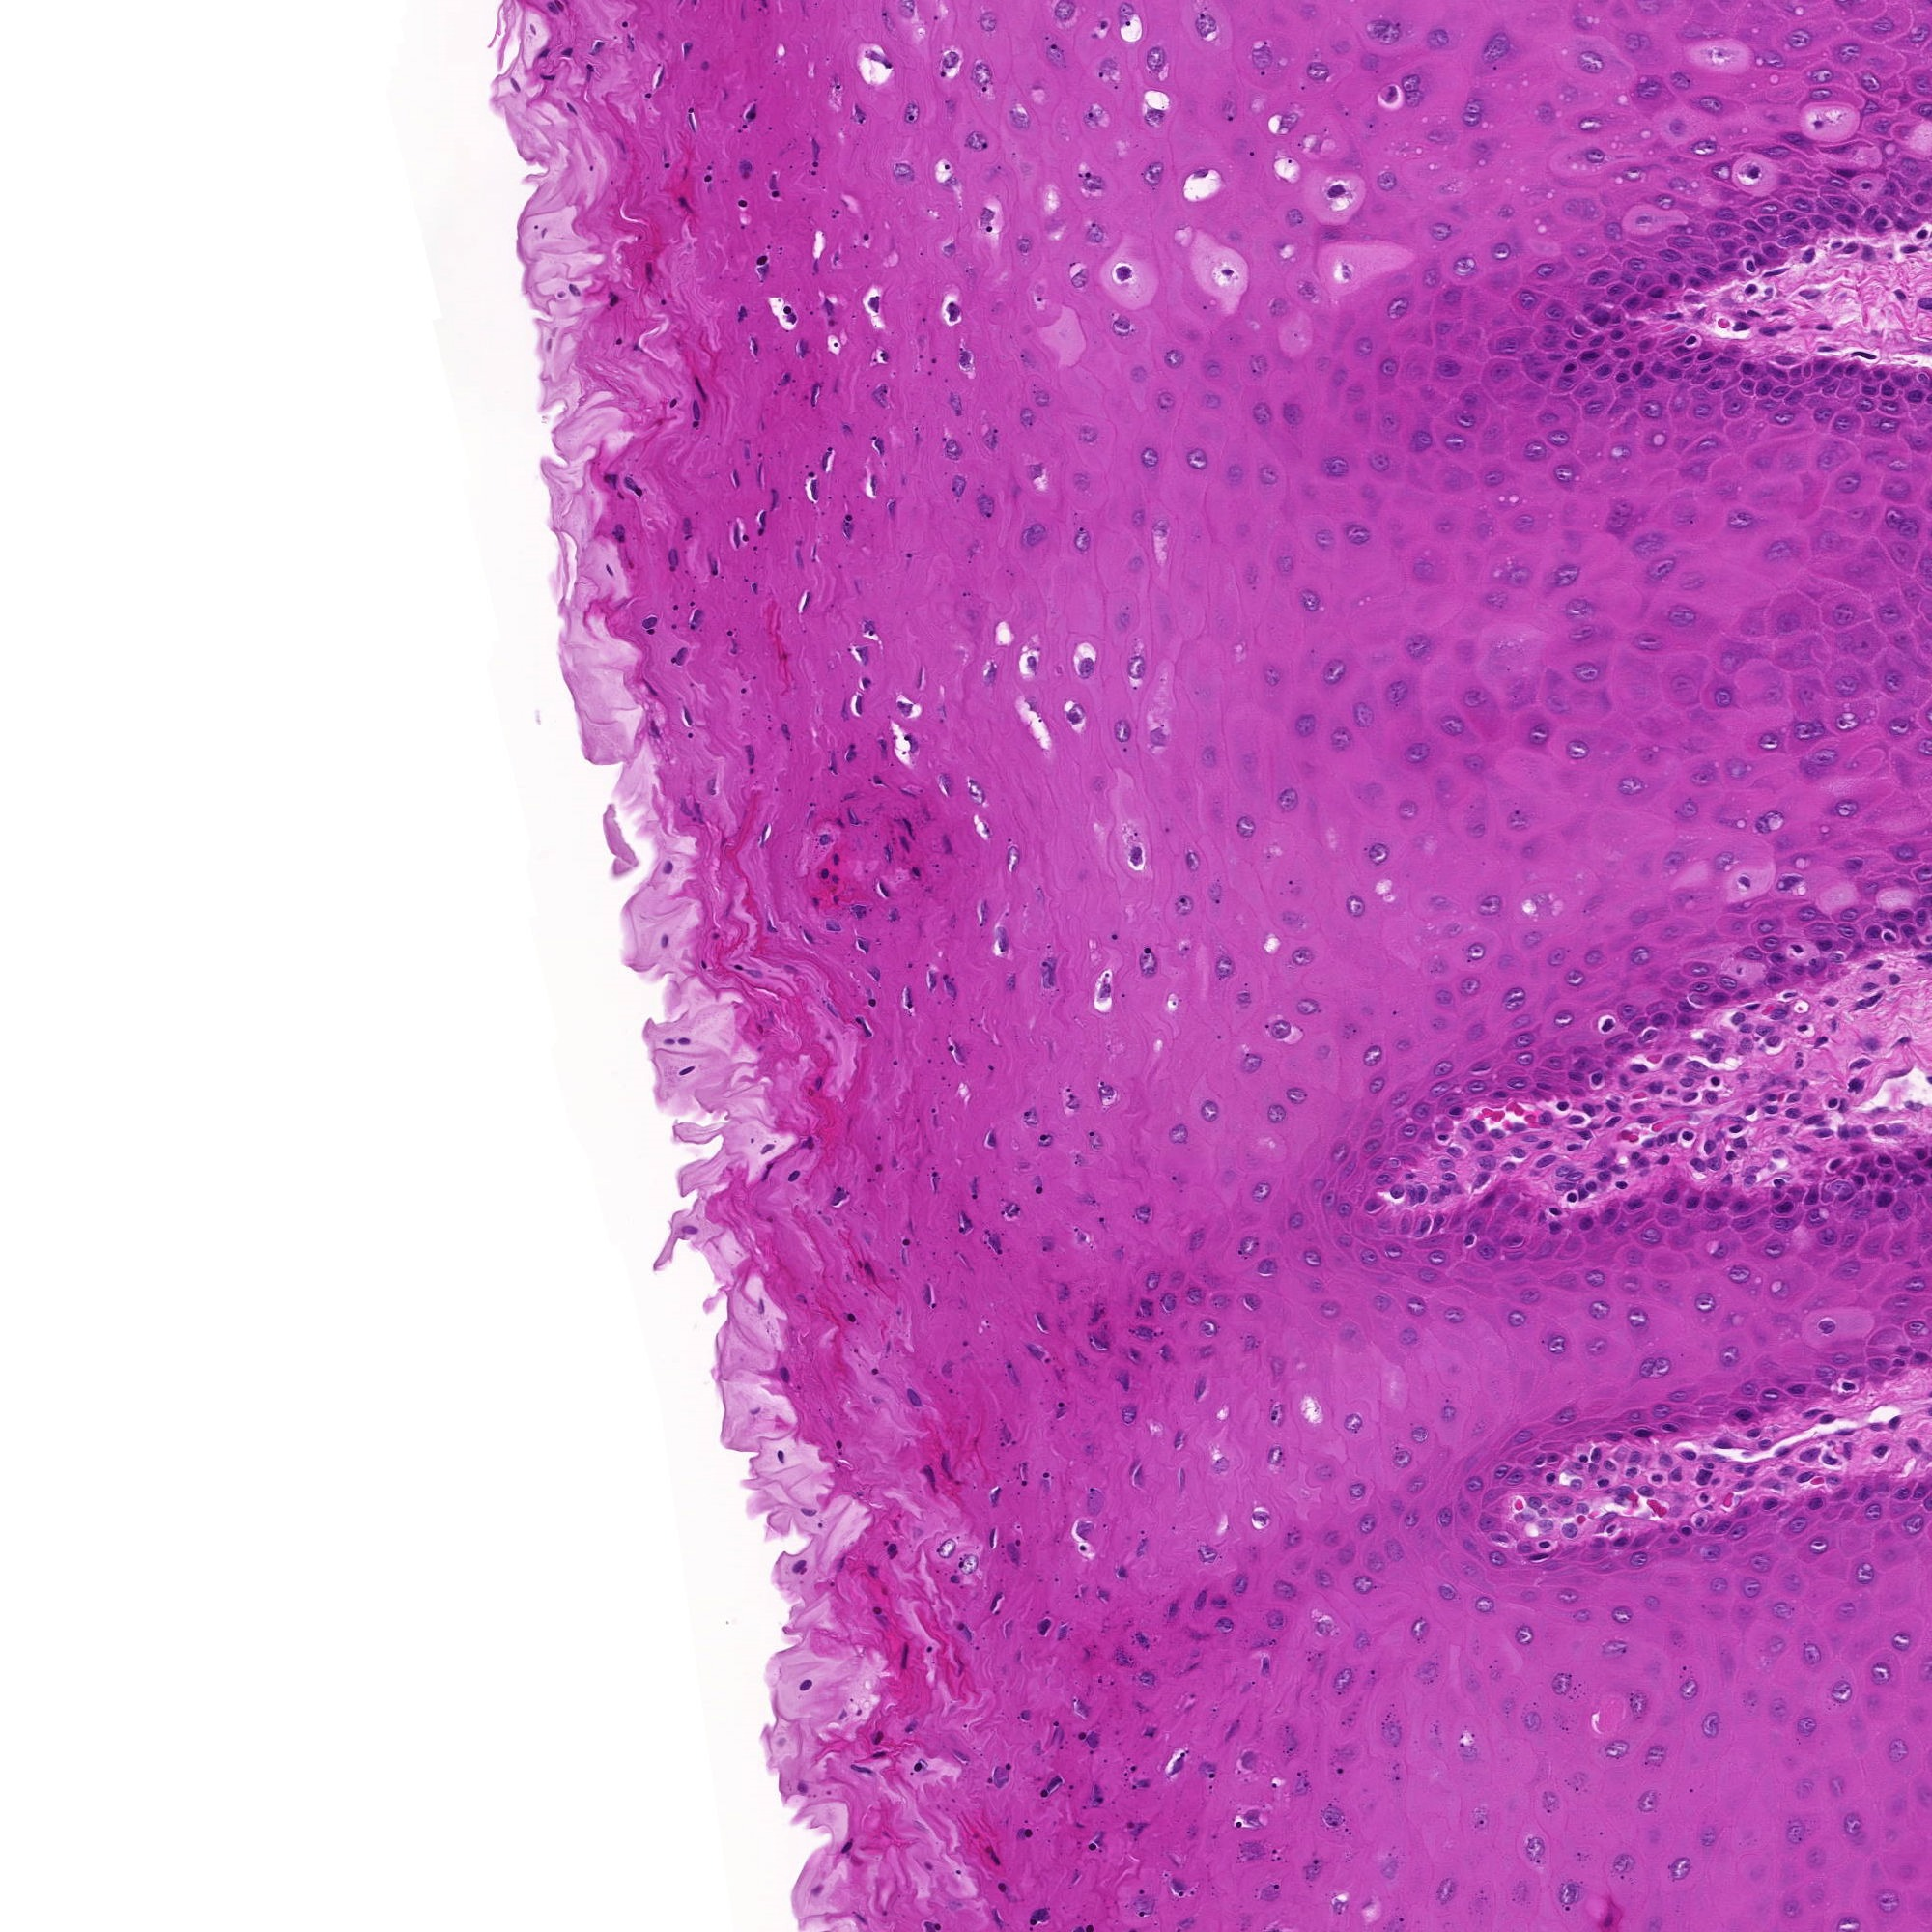epithelial: (1778, 221, 1810, 255), (1803, 195, 1836, 226), (1773, 387, 1805, 421), (1750, 387, 1782, 421), (1679, 334, 1713, 366), (1486, 347, 1518, 380), (1697, 1187, 1729, 1221), (1658, 993, 1691, 1024), (1522, 1444, 1555, 1476), (1702, 1527, 1734, 1560), (865, 375, 897, 407), (939, 389, 971, 421), (888, 826, 920, 858), (748, 817, 780, 849), (671, 510, 702, 541), (768, 639, 800, 671), (913, 874, 945, 906), (1384, 290, 1415, 322), (1279, 202, 1311, 234), (1247, 35, 1279, 67), (1021, 455, 1053, 487), (1189, 11, 1221, 42), (1122, 356, 1154, 387), (1384, 676, 1415, 708), (1295, 586, 1327, 617), (1173, 844, 1205, 876), (1226, 812, 1258, 844), (1338, 513, 1369, 545), (1131, 1290, 1162, 1322), (1178, 1276, 1210, 1307), (1279, 1203, 1311, 1235), (1154, 1286, 1185, 1318), (1138, 1261, 1169, 1293), (1235, 1327, 1267, 1359), (1115, 1398, 1146, 1430), (1235, 1284, 1267, 1316), (1161, 1261, 1192, 1293), (1031, 1230, 1063, 1261), (1334, 1014, 1366, 1046), (1403, 1415, 1435, 1447), (1056, 1085, 1088, 1116), (1315, 1184, 1346, 1215), (1419, 1233, 1451, 1265), (1339, 1408, 1371, 1440), (1122, 1286, 1154, 1318), (1132, 1269, 1164, 1300), (1072, 1637, 1104, 1668), (1276, 1522, 1307, 1553), (1276, 1729, 1307, 1760), (1106, 1642, 1138, 1674), (1192, 1537, 1224, 1569), (1399, 1468, 1431, 1500), (1157, 1592, 1189, 1624), (1067, 1514, 1099, 1546), (1378, 1534, 1410, 1566), (1067, 1691, 1099, 1723), (1376, 1713, 1408, 1744), (1306, 1612, 1338, 1644), (1346, 1568, 1378, 1599), (1552, 352, 1583, 384), (1615, 287, 1647, 318), (1872, 373, 1904, 405), (1686, 340, 1718, 372), (1564, 311, 1596, 343), (1583, 260, 1615, 292), (1856, 196, 1888, 228), (1734, 223, 1766, 255), (1836, 193, 1868, 225), (1875, 172, 1907, 203), (1886, 364, 1918, 396), (1826, 354, 1858, 386), (1688, 257, 1720, 288), (1539, 341, 1571, 373), (1787, 207, 1819, 239), (1548, 363, 1580, 395), (1539, 295, 1571, 327), (1619, 248, 1651, 280), (1530, 257, 1562, 288), (1615, 265, 1647, 297), (1679, 267, 1711, 299), (1454, 384, 1486, 416), (1511, 283, 1543, 315), (1895, 149, 1927, 180), (1695, 359, 1727, 391), (1631, 71, 1663, 103), (1667, 226, 1698, 258), (1514, 343, 1546, 375), (1874, 412, 1905, 444), (1888, 81, 1920, 113), (1576, 393, 1608, 425), (1683, 361, 1714, 393), (1900, 182, 1932, 214), (1865, 209, 1897, 241), (1518, 439, 1550, 471), (1782, 124, 1813, 156), (1612, 354, 1644, 386), (1580, 297, 1612, 329), (1589, 320, 1621, 352), (1748, 218, 1780, 249), (1621, 366, 1652, 398), (1826, 170, 1858, 202), (1757, 198, 1789, 230), (1516, 379, 1548, 410), (1550, 453, 1582, 485), (1714, 212, 1746, 244), (1663, 364, 1695, 396), (1681, 453, 1713, 485), (1824, 195, 1856, 226), (1852, 92, 1884, 124), (1723, 366, 1755, 398), (1523, 288, 1555, 320), (1706, 246, 1737, 278), (1644, 182, 1675, 214), (1709, 375, 1741, 407), (1612, 294, 1644, 326), (1695, 377, 1727, 409), (1580, 271, 1612, 303), (1635, 423, 1667, 455), (1844, 366, 1875, 398), (1548, 303, 1580, 334), (1548, 320, 1580, 352), (1539, 253, 1571, 285), (1504, 324, 1536, 356), (1587, 290, 1619, 322), (1545, 349, 1576, 380), (1661, 219, 1693, 251), (1546, 372, 1578, 403), (1792, 195, 1824, 226), (1612, 253, 1644, 285), (1713, 177, 1744, 209), (1856, 916, 1888, 948), (1891, 915, 1923, 947), (1736, 938, 1767, 970), (1881, 908, 1913, 939), (1792, 895, 1824, 927), (1458, 679, 1490, 711), (1633, 625, 1665, 656), (1750, 911, 1782, 943), (1826, 596, 1858, 628), (1601, 504, 1633, 536), (1874, 901, 1905, 932), (1651, 552, 1683, 584), (1895, 579, 1927, 610), (1520, 722, 1552, 754), (1472, 886, 1504, 918), (1624, 527, 1656, 559), (1886, 867, 1918, 899), (1750, 939, 1782, 971), (1500, 561, 1532, 593), (1461, 932, 1493, 964), (1805, 920, 1836, 952), (1654, 916, 1686, 948), (1858, 927, 1890, 959), (1819, 939, 1851, 971), (1828, 674, 1859, 706), (1736, 908, 1767, 939), (1721, 897, 1753, 929), (1888, 517, 1920, 548), (1474, 584, 1506, 616), (1603, 495, 1635, 527), (1842, 1164, 1874, 1196), (1886, 1152, 1918, 1184), (1769, 1191, 1801, 1223), (1867, 1169, 1898, 1201), (1851, 1152, 1882, 1184), (1670, 991, 1702, 1023), (1592, 1200, 1624, 1231), (1451, 1223, 1483, 1254), (1780, 1373, 1812, 1405), (1568, 1047, 1599, 1079), (1500, 1067, 1532, 1099), (1891, 1161, 1923, 1192), (1769, 1207, 1801, 1238), (1484, 1077, 1516, 1109), (1798, 1192, 1829, 1224), (1766, 1200, 1798, 1231), (1856, 1146, 1888, 1178), (1778, 1175, 1810, 1207), (1610, 1033, 1642, 1065), (1465, 1051, 1497, 1083), (1637, 1348, 1668, 1380), (1713, 1343, 1744, 1375), (1621, 1401, 1652, 1433), (1888, 1171, 1920, 1203), (1461, 1069, 1493, 1100), (1541, 1329, 1573, 1361), (1852, 1180, 1884, 1212), (1633, 1007, 1665, 1039), (1497, 984, 1529, 1016), (1898, 1309, 1930, 1341), (1776, 1185, 1808, 1217), (1720, 1198, 1752, 1230), (1559, 961, 1591, 993), (1884, 1338, 1916, 1369), (1562, 1035, 1594, 1067), (1707, 1187, 1739, 1219), (1739, 1201, 1771, 1233), (1440, 1203, 1472, 1235), (1842, 1178, 1874, 1210), (1661, 964, 1693, 996), (1824, 1345, 1856, 1376), (1897, 1269, 1928, 1300), (1748, 1196, 1780, 1228), (1665, 1184, 1697, 1215), (1741, 1378, 1773, 1410), (1674, 1200, 1706, 1231), (1897, 1175, 1928, 1207), (1479, 1226, 1511, 1258), (1552, 1056, 1583, 1088), (1736, 1214, 1767, 1246), (1467, 1191, 1499, 1223), (1688, 1180, 1720, 1212), (1847, 1477, 1879, 1509), (1500, 1458, 1532, 1490), (1886, 1477, 1918, 1509), (1727, 1509, 1759, 1541), (1780, 1815, 1812, 1847), (1865, 1654, 1897, 1686), (1762, 1693, 1794, 1725), (1824, 1479, 1856, 1511), (1599, 1734, 1631, 1766), (1736, 1683, 1767, 1714), (1474, 1479, 1506, 1511), (1534, 1787, 1566, 1819), (1821, 1769, 1852, 1801), (1760, 1626, 1792, 1658), (1246, 398, 1276, 432), (1852, 377, 1882, 410), (1767, 398, 1798, 432), (1610, 271, 1640, 304), (1858, 83, 1888, 117), (1890, 180, 1920, 214), (1867, 387, 1897, 421), (1826, 793, 1859, 823), (1835, 1348, 1865, 1382), (1658, 1536, 1691, 1566), (890, 156, 920, 188), (676, 99, 706, 131), (821, 67, 851, 99), (607, 131, 637, 163), (934, 166, 964, 198), (892, 810, 922, 842), (837, 801, 869, 832), (932, 768, 962, 800), (709, 826, 740, 858), (881, 807, 913, 837), (931, 1353, 962, 1384), (786, 1284, 817, 1315), (1371, 350, 1403, 380), (1408, 421, 1438, 453), (1364, 448, 1396, 478), (1274, 398, 1306, 428), (1316, 218, 1346, 249), (1138, 156, 1168, 188), (1196, 350, 1226, 382), (977, 423, 1007, 455), (1132, 444, 1162, 476), (1355, 48, 1387, 78), (1261, 290, 1292, 322), (1293, 274, 1323, 306), (1366, 14, 1398, 44), (1373, 165, 1403, 196), (1106, 310, 1138, 340), (1403, 426, 1433, 458), (1180, 444, 1212, 474), (1373, 405, 1405, 435), (1304, 55, 1334, 87), (1157, 341, 1187, 373), (1219, 456, 1249, 488), (1026, 382, 1056, 414), (1339, 377, 1371, 407), (1148, 387, 1180, 418), (1421, 18, 1451, 50), (1141, 44, 1171, 76), (1398, 64, 1428, 96), (1412, 379, 1442, 410), (1253, 460, 1283, 492), (1214, 99, 1246, 129), (1401, 352, 1431, 384), (1290, 708, 1320, 740), (1016, 518, 1046, 550), (1359, 835, 1391, 865), (1194, 738, 1224, 770), (1141, 722, 1173, 752), (1123, 501, 1154, 533), (1067, 518, 1097, 550), (1307, 522, 1338, 554), (1345, 695, 1375, 727), (1201, 881, 1231, 913), (996, 842, 1026, 874), (1120, 547, 1152, 577), (1407, 1095, 1438, 1125), (1086, 1327, 1118, 1357), (1083, 1297, 1113, 1329), (1408, 1210, 1438, 1242), (1182, 1221, 1212, 1253), (1129, 1316, 1161, 1346), (1378, 1233, 1410, 1263), (1353, 1242, 1384, 1274), (1355, 1191, 1387, 1221), (1265, 1014, 1295, 1046), (1361, 1069, 1392, 1099), (1237, 1046, 1269, 1076), (1109, 1366, 1139, 1398), (1191, 1336, 1221, 1368), (1246, 1175, 1276, 1207), (1026, 1304, 1056, 1336), (1150, 1338, 1180, 1369), (1368, 1162, 1398, 1194), (1412, 1118, 1442, 1150), (1392, 1320, 1424, 1350), (1384, 1083, 1415, 1113), (1205, 1286, 1237, 1316), (1164, 1116, 1196, 1146), (1412, 1258, 1442, 1290), (1230, 982, 1260, 1014), (1065, 1343, 1097, 1373), (1184, 1373, 1214, 1405), (1226, 1233, 1258, 1263), (1410, 1224, 1442, 1254), (1389, 1143, 1421, 1173), (1104, 1237, 1134, 1269), (1261, 1352, 1293, 1382), (1295, 991, 1325, 1023), (1389, 1212, 1421, 1242), (1044, 1359, 1076, 1389), (1079, 1322, 1109, 1353), (1074, 1184, 1104, 1215), (1125, 1299, 1155, 1330), (1132, 1661, 1162, 1693), (1352, 1506, 1382, 1537), (1261, 1605, 1293, 1635), (1272, 1575, 1304, 1605), (1237, 1835, 1269, 1865), (1330, 1539, 1361, 1571), (1299, 1851, 1330, 1881), (1403, 1612, 1435, 1642), (1316, 1803, 1348, 1833), (1194, 1755, 1226, 1785), (1346, 1624, 1378, 1654), (1127, 1893, 1159, 1923), (1256, 1875, 1286, 1907), (1122, 1458, 1154, 1488), (1343, 1474, 1375, 1504), (1127, 1530, 1157, 1562), (1414, 1654, 1445, 1684), (1327, 1667, 1359, 1697), (1077, 1479, 1108, 1511), (1322, 1891, 1353, 1921), (1376, 1851, 1407, 1882), (1127, 1882, 1159, 1913), (993, 1612, 1023, 1644), (1274, 1720, 1306, 1750), (1168, 1463, 1198, 1495), (1203, 1449, 1235, 1479), (1585, 304, 1615, 336), (1622, 352, 1652, 384), (1573, 340, 1605, 370), (1750, 372, 1780, 403), (1898, 380, 1928, 412), (1606, 361, 1637, 393), (1805, 205, 1835, 237), (1821, 188, 1852, 218), (1601, 318, 1633, 349), (1732, 370, 1762, 402), (1580, 324, 1610, 356), (1831, 203, 1861, 235), (1594, 301, 1624, 333), (1773, 202, 1805, 232), (1847, 391, 1877, 423), (1601, 274, 1631, 306), (1808, 366, 1840, 396), (1714, 232, 1744, 264), (1665, 334, 1697, 364), (1778, 382, 1810, 412), (1744, 244, 1775, 276), (1654, 239, 1684, 271), (1764, 375, 1794, 407), (1736, 211, 1767, 241), (1762, 359, 1794, 389), (1688, 354, 1720, 384), (1877, 389, 1907, 421), (1789, 188, 1819, 219), (1493, 329, 1525, 359), (1812, 191, 1844, 221), (1536, 327, 1566, 359), (1633, 352, 1665, 382), (1829, 405, 1859, 437), (1782, 364, 1812, 396), (1484, 356, 1514, 387), (1856, 370, 1888, 400), (1534, 402, 1564, 433), (1612, 377, 1642, 409), (1711, 354, 1741, 386), (1571, 375, 1603, 405), (1543, 421, 1575, 451), (1697, 343, 1729, 373), (1893, 196, 1925, 226), (1842, 356, 1874, 386), (1721, 389, 1752, 421), (1729, 237, 1760, 267), (1867, 111, 1898, 142), (1865, 407, 1895, 439), (1437, 352, 1468, 382), (1757, 379, 1787, 410), (1601, 393, 1631, 425), (1674, 359, 1706, 389), (1746, 446, 1776, 478), (1690, 366, 1721, 396), (1898, 425, 1928, 456), (1713, 221, 1743, 253), (1665, 62, 1697, 92), (1665, 349, 1695, 380), (1893, 372, 1923, 403), (1541, 357, 1573, 387), (1596, 287, 1626, 318), (1486, 232, 1516, 264), (1458, 99, 1490, 129), (1633, 384, 1663, 416), (1619, 308, 1649, 340), (1835, 34, 1867, 64), (1683, 241, 1714, 271), (1686, 395, 1716, 426), (1863, 437, 1893, 469), (1610, 313, 1640, 345), (1583, 341, 1614, 373), (1628, 290, 1660, 320), (1773, 363, 1803, 395), (1573, 363, 1603, 395), (1477, 464, 1509, 494), (1622, 27, 1654, 57), (1741, 356, 1771, 387), (1776, 191, 1806, 223), (1769, 165, 1801, 195), (1764, 211, 1796, 241), (1550, 333, 1580, 364), (1766, 228, 1798, 258), (1805, 80, 1836, 110), (1661, 235, 1693, 265), (1718, 350, 1750, 380), (1789, 218, 1819, 249), (1835, 363, 1867, 393), (1727, 228, 1759, 258), (1594, 267, 1626, 297), (1796, 211, 1828, 241), (1695, 428, 1727, 458), (1651, 269, 1681, 301), (1794, 352, 1824, 384), (1578, 281, 1608, 313), (1882, 202, 1913, 234), (1536, 304, 1568, 334), (1532, 352, 1562, 384), (1757, 44, 1789, 74), (1821, 175, 1851, 207), (1870, 203, 1902, 234), (1605, 288, 1635, 320), (1798, 373, 1829, 403), (1557, 308, 1587, 340), (1693, 244, 1723, 276), (1842, 202, 1872, 234), (1824, 373, 1856, 403), (1654, 329, 1686, 359), (1790, 23, 1821, 55), (1626, 359, 1658, 389), (1674, 262, 1706, 292), (1573, 306, 1603, 338), (1829, 39, 1859, 71), (1488, 32, 1520, 62), (1612, 244, 1644, 274), (1477, 418, 1507, 449), (1557, 373, 1589, 403), (1812, 60, 1844, 90), (1783, 375, 1815, 405), (1769, 219, 1801, 249), (1667, 426, 1697, 458), (1578, 384, 1610, 414), (1884, 165, 1914, 196), (1605, 384, 1637, 414), (1578, 370, 1608, 402), (1805, 384, 1835, 416), (1852, 211, 1884, 241), (1810, 929, 1840, 961), (1886, 899, 1916, 931), (1874, 920, 1905, 950), (1890, 837, 1920, 869), (1840, 931, 1872, 961), (1798, 713, 1829, 743), (1877, 662, 1909, 692), (1771, 607, 1803, 637), (1874, 594, 1904, 626), (1884, 708, 1916, 738), (1707, 678, 1739, 708), (1757, 722, 1787, 754), (1886, 625, 1916, 656), (1458, 748, 1488, 780), (1562, 729, 1594, 759), (1727, 504, 1759, 534), (1792, 754, 1824, 784), (1569, 619, 1601, 649), (1660, 842, 1690, 874), (1622, 939, 1654, 970), (1509, 508, 1539, 540), (1665, 603, 1697, 633), (1674, 791, 1704, 823), (1799, 941, 1829, 973), (1808, 747, 1840, 777), (1442, 708, 1472, 740), (1842, 916, 1874, 947), (1824, 706, 1856, 736), (1665, 667, 1697, 697), (1868, 913, 1898, 945), (1858, 538, 1888, 570), (1633, 740, 1663, 771), (1502, 800, 1532, 832), (1578, 939, 1610, 970), (1886, 538, 1918, 568), (1844, 556, 1874, 587), (1835, 667, 1865, 699), (1568, 591, 1599, 621), (1782, 709, 1812, 741), (1789, 678, 1821, 708), (1467, 513, 1499, 543), (1845, 628, 1877, 658), (1767, 828, 1799, 858), (1849, 501, 1881, 531), (1902, 901, 1932, 932), (1836, 789, 1867, 821), (1543, 564, 1573, 596), (1877, 713, 1909, 743), (1771, 642, 1803, 672), (1637, 524, 1667, 556), (1844, 665, 1875, 695), (1723, 752, 1753, 784), (1792, 718, 1822, 750), (1610, 773, 1642, 803), (1805, 908, 1835, 939), (1888, 855, 1918, 886), (1812, 524, 1842, 556), (1796, 671, 1826, 702), (1667, 798, 1698, 828), (1672, 881, 1702, 913), (1790, 709, 1822, 740), (1868, 1184, 1898, 1215), (1872, 1162, 1904, 1192), (1888, 1194, 1918, 1226), (1559, 1062, 1591, 1092), (1725, 1191, 1757, 1221), (1677, 1185, 1707, 1217), (1856, 1159, 1888, 1189), (1656, 1180, 1686, 1212), (1730, 1207, 1760, 1238), (1571, 1207, 1601, 1238), (1829, 1180, 1861, 1210), (1684, 971, 1714, 1003), (1497, 1224, 1529, 1254), (1702, 984, 1734, 1014), (1821, 1150, 1852, 1180), (1461, 1210, 1493, 1240), (1668, 1003, 1700, 1033), (1759, 1231, 1789, 1263), (1550, 1399, 1580, 1431), (1652, 1201, 1684, 1231), (1759, 962, 1789, 994), (1582, 1063, 1612, 1095), (1472, 1184, 1504, 1214), (1539, 1046, 1569, 1077), (1635, 1224, 1667, 1254), (1836, 1251, 1867, 1283), (1697, 1200, 1727, 1231), (1624, 1203, 1656, 1233), (1755, 1378, 1787, 1408), (1847, 1194, 1877, 1226), (1633, 1021, 1665, 1051), (1599, 1421, 1629, 1453), (1619, 1001, 1649, 1033), (1840, 1357, 1870, 1389), (1836, 1171, 1867, 1203), (1856, 1233, 1888, 1263), (1750, 1389, 1782, 1419), (1836, 1184, 1867, 1215), (1706, 1235, 1737, 1265), (1594, 1026, 1626, 1056), (1460, 1016, 1490, 1047), (1529, 1069, 1559, 1100), (1651, 1403, 1683, 1433), (1557, 1230, 1587, 1261), (1881, 1185, 1911, 1217), (1507, 1196, 1539, 1226), (1826, 1155, 1858, 1185), (1493, 1185, 1525, 1215), (1548, 1000, 1580, 1030), (1514, 1279, 1545, 1311), (1810, 1361, 1840, 1392), (1500, 1240, 1530, 1272), (1552, 1265, 1582, 1297), (1808, 1180, 1838, 1212), (1582, 1203, 1614, 1233), (1898, 1253, 1928, 1284), (1661, 1380, 1693, 1410), (1707, 978, 1739, 1008), (1780, 1194, 1810, 1226), (1882, 1286, 1914, 1316), (1594, 1046, 1624, 1077), (1522, 1077, 1553, 1108), (1612, 1019, 1642, 1051), (1507, 1421, 1539, 1451), (1631, 1353, 1661, 1385), (1440, 1299, 1470, 1330), (1895, 1148, 1927, 1178), (1882, 1346, 1913, 1378), (1881, 1168, 1911, 1200), (1867, 1196, 1897, 1228), (1622, 1307, 1652, 1339), (1511, 1044, 1543, 1074), (1619, 1256, 1649, 1288), (1615, 1267, 1647, 1297), (1663, 1224, 1695, 1254), (1760, 1208, 1790, 1240), (1596, 1208, 1628, 1238), (1483, 1210, 1513, 1242), (1599, 1194, 1631, 1224), (1656, 1003, 1686, 1035), (1665, 1405, 1695, 1437), (1621, 1297, 1651, 1329), (1626, 1408, 1656, 1440), (1576, 1215, 1608, 1246), (1693, 1208, 1723, 1240), (1858, 1191, 1888, 1223), (1897, 1320, 1927, 1352), (1665, 980, 1697, 1010), (1859, 1336, 1890, 1368), (1677, 985, 1709, 1016), (1465, 1226, 1495, 1258), (1766, 1364, 1798, 1394), (1767, 1274, 1799, 1304), (1619, 1217, 1651, 1247), (1447, 1208, 1479, 1238), (1790, 1171, 1821, 1203), (1790, 1201, 1821, 1233), (1890, 1279, 1920, 1311), (1821, 1171, 1852, 1201), (1693, 975, 1725, 1005), (1566, 1265, 1598, 1295), (1580, 1279, 1610, 1311), (1578, 1054, 1610, 1085), (1527, 1062, 1557, 1093), (1707, 1509, 1737, 1541), (1782, 1507, 1812, 1539), (1606, 1845, 1637, 1877), (1805, 1527, 1835, 1559), (1640, 1736, 1670, 1767), (1859, 1493, 1890, 1525), (1718, 1514, 1750, 1545), (1626, 1537, 1656, 1569), (1835, 1479, 1867, 1509), (1454, 1529, 1484, 1560), (1693, 1822, 1723, 1854), (1619, 1686, 1651, 1716), (1824, 1675, 1856, 1706), (1836, 1812, 1867, 1844), (1737, 1573, 1769, 1603), (1582, 1530, 1612, 1562), (1898, 1506, 1928, 1537), (1746, 1546, 1776, 1578), (1897, 1476, 1928, 1506), (1776, 1568, 1808, 1598), (1518, 1833, 1550, 1863), (1858, 1474, 1888, 1506), (1631, 1785, 1663, 1815), (1663, 1851, 1695, 1881), (1545, 1667, 1576, 1697), (1799, 1842, 1829, 1874), (1516, 1706, 1548, 1736), (1605, 1633, 1635, 1665), (1530, 1541, 1560, 1573), (1713, 1645, 1743, 1677), (1583, 1543, 1615, 1573), (1468, 1591, 1500, 1621), (1592, 1550, 1622, 1582), (1672, 1672, 1704, 1702), (1718, 1504, 1750, 1534), (1890, 1493, 1920, 1525), (1789, 1771, 1821, 1801), (939, 435, 970, 465), (771, 363, 801, 393), (938, 44, 968, 74), (936, 90, 966, 120), (743, 456, 773, 487), (844, 895, 874, 925), (932, 828, 962, 858), (874, 837, 904, 867), (911, 798, 941, 828), (658, 543, 688, 573), (835, 782, 865, 812), (695, 771, 725, 801), (938, 906, 968, 936), (796, 800, 826, 830), (939, 1033, 970, 1063), (920, 1100, 950, 1131), (747, 1012, 777, 1042), (816, 993, 846, 1023), (943, 1647, 973, 1677), (1008, 230, 1039, 260), (1316, 451, 1346, 481), (1350, 329, 1380, 359), (1012, 403, 1042, 433), (1346, 402, 1376, 432), (1417, 260, 1447, 290), (1269, 108, 1299, 138), (1079, 218, 1109, 248), (1323, 361, 1353, 391), (1244, 350, 1274, 380), (1010, 341, 1040, 372), (1074, 419, 1104, 449), (1005, 104, 1035, 134), (1065, 262, 1095, 292), (1196, 384, 1226, 414), (1378, 12, 1408, 42), (1401, 738, 1431, 768), (1272, 782, 1302, 812), (1072, 651, 1102, 681), (1407, 554, 1437, 584), (1318, 656, 1348, 686), (1108, 603, 1138, 633), (1325, 724, 1355, 754), (1341, 892, 1371, 922), (1269, 548, 1299, 579), (977, 656, 1007, 686), (1343, 522, 1373, 552), (1286, 939, 1316, 970), (1109, 718, 1139, 748), (1392, 791, 1422, 821), (970, 897, 1000, 927), (1357, 775, 1387, 805), (1357, 1131, 1387, 1161), (1253, 1249, 1283, 1279), (1329, 1194, 1359, 1224), (1120, 1339, 1150, 1369), (1049, 1277, 1079, 1307), (1394, 1115, 1424, 1145), (1299, 1240, 1329, 1270), (1410, 1109, 1440, 1139), (1361, 1148, 1391, 1178), (1368, 1286, 1398, 1316), (1329, 1226, 1359, 1256), (1194, 1313, 1224, 1343), (1092, 1076, 1122, 1106), (1325, 1138, 1355, 1168), (991, 1419, 1021, 1449), (1304, 1169, 1334, 1200), (1277, 1079, 1307, 1109), (1129, 1194, 1159, 1224), (1401, 1288, 1431, 1318), (1361, 1109, 1391, 1139), (1389, 1028, 1419, 1058), (1334, 1318, 1364, 1348), (1263, 1095, 1293, 1125), (1315, 1293, 1345, 1323), (1162, 1164, 1192, 1194), (1332, 1152, 1362, 1182), (1417, 1246, 1447, 1276), (1155, 1276, 1185, 1306), (1226, 1569, 1256, 1599), (1306, 1562, 1336, 1592), (1398, 1502, 1428, 1532), (1233, 1744, 1263, 1775), (1316, 1522, 1346, 1552), (998, 1537, 1028, 1568), (1359, 1546, 1389, 1576), (1288, 1767, 1318, 1798), (1385, 1442, 1415, 1472), (1177, 1817, 1207, 1847), (1072, 1902, 1102, 1932), (1060, 1861, 1090, 1891), (1249, 1626, 1279, 1656), (1700, 368, 1730, 398), (1589, 356, 1619, 386), (1557, 329, 1587, 359), (1709, 345, 1739, 375), (1647, 354, 1677, 384), (1631, 366, 1661, 396), (1644, 278, 1674, 308), (1658, 357, 1688, 387), (1527, 361, 1557, 391), (1672, 345, 1702, 375), (1629, 329, 1660, 359), (1755, 235, 1785, 265), (1706, 214, 1736, 244), (1598, 359, 1628, 389), (1573, 292, 1603, 322), (1752, 209, 1782, 239), (1709, 198, 1739, 228), (1615, 334, 1645, 364), (1806, 398, 1836, 428), (1753, 361, 1783, 391), (1635, 396, 1665, 426), (1875, 195, 1905, 225), (1453, 403, 1483, 433), (1536, 315, 1566, 345), (1785, 356, 1815, 386), (1813, 373, 1844, 403), (1716, 384, 1746, 414), (1573, 320, 1603, 350), (1868, 11, 1898, 41), (1438, 281, 1468, 311), (1467, 133, 1497, 163), (1580, 140, 1610, 170), (1698, 88, 1729, 119), (1481, 28, 1511, 58), (1594, 350, 1624, 380), (1560, 322, 1591, 352), (1530, 97, 1560, 127), (1442, 430, 1472, 460), (1668, 214, 1698, 244), (1852, 69, 1882, 99), (1564, 350, 1594, 380), (1483, 267, 1513, 297), (1757, 134, 1787, 165), (1598, 327, 1628, 357), (1890, 172, 1920, 202), (1663, 393, 1693, 423), (1780, 25, 1810, 55), (1520, 354, 1550, 384), (1661, 111, 1691, 142), (1815, 166, 1845, 196), (1566, 237, 1596, 267), (1546, 460, 1576, 490), (1640, 267, 1670, 297), (1447, 246, 1477, 276), (1812, 444, 1842, 474), (1684, 380, 1714, 410), (1617, 154, 1647, 184), (1486, 331, 1516, 361), (1610, 435, 1640, 465), (1658, 253, 1688, 283), (1642, 391, 1672, 421), (1736, 202, 1766, 232), (1734, 380, 1764, 410), (1886, 508, 1916, 538), (1831, 916, 1861, 947), (1835, 899, 1865, 929), (1840, 849, 1870, 879), (1759, 931, 1789, 961), (1550, 561, 1580, 591), (1691, 759, 1721, 789), (1762, 941, 1792, 971), (1897, 508, 1927, 538), (1525, 713, 1555, 743), (1858, 870, 1888, 901), (1674, 502, 1704, 533), (1877, 506, 1907, 536), (1718, 639, 1748, 669), (1514, 833, 1545, 863), (1463, 812, 1493, 842), (1575, 653, 1605, 683), (1624, 904, 1654, 934), (1589, 685, 1619, 715), (1539, 665, 1569, 695), (1773, 939, 1803, 970), (1644, 559, 1674, 589), (1826, 931, 1856, 961), (1886, 752, 1916, 782), (1766, 533, 1796, 563), (1833, 628, 1863, 658), (1796, 906, 1826, 936), (1900, 1162, 1930, 1192), (1645, 1005, 1675, 1035), (1813, 1224, 1844, 1254), (1621, 1189, 1651, 1219), (1624, 1010, 1654, 1040), (1472, 1235, 1502, 1265), (1863, 1348, 1893, 1378), (1511, 1023, 1541, 1053), (1702, 1207, 1732, 1237), (1654, 1412, 1684, 1442), (1605, 1214, 1635, 1244), (1801, 1203, 1831, 1233), (1884, 1231, 1914, 1261), (1760, 1194, 1790, 1224), (1647, 1394, 1677, 1424), (1612, 996, 1642, 1026), (1734, 1376, 1764, 1407), (1690, 1286, 1720, 1316), (1835, 1224, 1865, 1254), (1578, 1261, 1608, 1292), (1902, 1139, 1932, 1169), (1499, 1304, 1529, 1334), (1642, 996, 1672, 1026), (1619, 1242, 1649, 1272), (1723, 1256, 1753, 1286), (1453, 970, 1483, 1000), (1709, 968, 1739, 998), (1691, 984, 1721, 1014), (1674, 1215, 1704, 1246), (1844, 1146, 1874, 1177), (1647, 1272, 1677, 1302), (1530, 1235, 1560, 1265), (1582, 1295, 1612, 1325), (1582, 1330, 1612, 1361), (1881, 1148, 1911, 1178), (1619, 1026, 1649, 1056), (1734, 1387, 1764, 1417), (1764, 1304, 1794, 1334), (1829, 1256, 1859, 1286), (1720, 1184, 1750, 1214), (1698, 1537, 1729, 1568), (1486, 1456, 1516, 1486), (1729, 1497, 1759, 1527), (1624, 1527, 1654, 1557), (1801, 1488, 1831, 1518), (1458, 1468, 1488, 1499), (1697, 1709, 1727, 1739), (1449, 1493, 1479, 1523), (1557, 1875, 1587, 1905), (1851, 1559, 1881, 1589), (1507, 1619, 1537, 1649), (1875, 1539, 1905, 1569), (1661, 1621, 1691, 1651), (1831, 1594, 1861, 1624), (1637, 1587, 1667, 1617), (1658, 1525, 1688, 1555), (1881, 1734, 1911, 1764), (1870, 1886, 1900, 1916), (1621, 1545, 1651, 1575), (1886, 1626, 1916, 1656), (1605, 1598, 1635, 1628), (1794, 1640, 1824, 1670), (1868, 1472, 1898, 1502), (1801, 1536, 1831, 1566), (1553, 1580, 1583, 1610), (1704, 1569, 1734, 1599), (1594, 1900, 1624, 1930), (1729, 1599, 1759, 1629), (1831, 1497, 1861, 1527), (789, 333, 817, 364), (893, 777, 922, 809), (893, 793, 922, 824), (1403, 632, 1435, 660), (1258, 663, 1290, 692), (1660, 264, 1691, 292), (1734, 352, 1762, 384), (1806, 356, 1835, 387), (1713, 253, 1744, 281), (1629, 267, 1658, 299), (1852, 359, 1884, 387), (1819, 359, 1851, 387), (1891, 156, 1920, 188), (1838, 464, 1870, 492), (1881, 188, 1909, 219), (1447, 327, 1479, 356), (1746, 810, 1778, 839), (1723, 908, 1752, 939), (1798, 1180, 1826, 1212), (1870, 1143, 1898, 1175), (1766, 1178, 1794, 1210), (1890, 1182, 1918, 1214), (1836, 1157, 1865, 1189), (1629, 1219, 1658, 1251), (1483, 1541, 1511, 1573), (1790, 1713, 1822, 1741), (1764, 1592, 1792, 1624), (1398, 74, 1426, 104), (1123, 653, 1154, 681), (1382, 1493, 1412, 1522), (1304, 1644, 1332, 1674), (1608, 336, 1637, 366), (1776, 212, 1805, 242), (1598, 214, 1626, 244), (1644, 349, 1674, 377), (1472, 1507, 1500, 1537), (1776, 1893, 1805, 1923), (1870, 1518, 1898, 1548), (1782, 959, 1813, 985)
fibroblast and endothelial: (860, 1725, 893, 1757), (1716, 970, 1750, 1001), (1688, 1481, 1720, 1514), (745, 244, 777, 276), (685, 372, 717, 403), (679, 403, 711, 435), (527, 37, 559, 69), (872, 48, 904, 80), (858, 287, 890, 318), (725, 297, 757, 329), (529, 48, 561, 80), (800, 131, 832, 163), (633, 255, 665, 287), (605, 327, 637, 359), (614, 464, 646, 495), (893, 101, 925, 133), (609, 7, 640, 39), (849, 221, 881, 253), (747, 504, 778, 536), (603, 518, 635, 550), (869, 874, 901, 906), (835, 738, 867, 770), (855, 612, 886, 644), (847, 929, 879, 961), (867, 729, 899, 761), (876, 492, 908, 524), (793, 920, 824, 952), (770, 715, 801, 747), (888, 690, 920, 722), (828, 805, 860, 837), (862, 764, 893, 796), (846, 678, 878, 709), (828, 695, 860, 727), (893, 540, 925, 571), (832, 513, 863, 545), (715, 619, 747, 651), (612, 547, 644, 579), (752, 1152, 784, 1184), (667, 1024, 699, 1056), (916, 964, 948, 996), (793, 1127, 824, 1159), (890, 1226, 922, 1258), (897, 1382, 929, 1414), (911, 1279, 943, 1311), (858, 1355, 890, 1387), (674, 1214, 706, 1246), (927, 962, 959, 994), (929, 1447, 961, 1479), (786, 1771, 817, 1803), (929, 1534, 961, 1566), (839, 1844, 870, 1875), (968, 53, 1000, 85), (1131, 936, 1162, 968), (987, 929, 1019, 961), (970, 485, 1001, 517), (1023, 1173, 1054, 1205), (980, 1230, 1012, 1261), (1030, 1123, 1062, 1155), (1019, 1336, 1051, 1368), (1012, 1097, 1044, 1129), (959, 1173, 991, 1205), (1258, 1399, 1290, 1431), (1194, 1093, 1226, 1125), (1033, 962, 1065, 994), (1192, 1323, 1224, 1355), (975, 1053, 1007, 1085), (1028, 1610, 1060, 1642), (985, 1872, 1017, 1904), (1184, 1583, 1215, 1615), (1122, 1810, 1154, 1842), (1246, 1502, 1277, 1534), (1030, 1461, 1062, 1493), (1088, 1578, 1120, 1610), (1125, 1691, 1157, 1723), (1261, 1438, 1293, 1470), (1083, 1822, 1115, 1854), (1042, 1762, 1074, 1794), (1792, 239, 1824, 271), (1831, 232, 1863, 264), (1884, 278, 1916, 310), (1769, 343, 1801, 375), (1836, 345, 1868, 377), (1757, 308, 1789, 340), (1695, 129, 1727, 161), (1877, 361, 1909, 393), (1752, 264, 1783, 295), (1898, 927, 1930, 959), (1762, 798, 1794, 830), (1840, 1069, 1872, 1100), (1539, 1200, 1571, 1231), (1828, 1088, 1859, 1120), (1654, 1122, 1686, 1154), (1824, 1116, 1856, 1148), (1844, 1047, 1875, 1079), (1737, 1093, 1769, 1125), (1569, 1175, 1601, 1207), (1461, 1108, 1493, 1139), (1697, 1129, 1729, 1161), (1723, 1001, 1755, 1033), (1698, 1039, 1730, 1070), (1727, 1399, 1759, 1431), (1888, 1024, 1920, 1056), (1467, 1129, 1499, 1161), (1621, 1090, 1652, 1122), (1713, 1161, 1744, 1192), (1502, 1111, 1534, 1143), (1688, 1139, 1720, 1171), (1527, 1116, 1559, 1148), (1672, 1065, 1704, 1097), (1451, 1118, 1483, 1150), (1704, 1141, 1736, 1173), (1865, 1100, 1897, 1132), (1622, 1100, 1654, 1132), (1706, 1421, 1737, 1453), (1550, 1152, 1582, 1184), (1757, 1067, 1789, 1099), (1626, 1115, 1658, 1146), (1727, 1099, 1759, 1131), (1794, 1159, 1826, 1191), (1610, 1419, 1642, 1451), (1727, 1062, 1759, 1093), (1861, 968, 1893, 1000), (1803, 1097, 1835, 1129), (1594, 1141, 1626, 1173), (1737, 1014, 1769, 1046), (1815, 1417, 1847, 1449), (1566, 1122, 1598, 1154), (1688, 1458, 1720, 1490), (1789, 1461, 1821, 1493), (1587, 1465, 1619, 1497), (1755, 1486, 1787, 1518), (1605, 1525, 1637, 1557), (1578, 1447, 1610, 1479), (1670, 1514, 1702, 1546), (1559, 1468, 1591, 1500), (1536, 1447, 1568, 1479), (1555, 1514, 1587, 1546), (1557, 1456, 1589, 1488), (1612, 1465, 1644, 1497), (1536, 1486, 1568, 1518), (639, 713, 669, 747), (821, 881, 851, 915), (1207, 1594, 1240, 1624), (1014, 1465, 1047, 1495), (1736, 157, 1769, 188), (1805, 1024, 1835, 1058), (1679, 1049, 1713, 1079), (1591, 1063, 1624, 1093), (1812, 1017, 1842, 1051), (1444, 1171, 1477, 1201), (1647, 1463, 1681, 1493), (1594, 1511, 1624, 1545), (773, 297, 805, 327), (681, 393, 711, 425), (736, 101, 768, 131), (596, 462, 626, 494), (552, 37, 584, 67), (814, 290, 844, 322), (863, 428, 895, 458), (759, 177, 791, 207), (869, 340, 899, 372), (667, 186, 697, 218), (740, 331, 771, 361), (557, 274, 589, 304), (844, 99, 876, 129), (621, 331, 651, 363), (667, 389, 697, 421), (720, 462, 752, 492), (858, 465, 890, 495), (646, 62, 676, 94), (651, 149, 681, 180), (616, 27, 646, 58), (556, 92, 586, 124), (800, 145, 832, 175), (801, 453, 832, 485), (816, 303, 846, 334), (648, 287, 678, 318), (632, 80, 663, 110), (927, 57, 959, 87), (800, 253, 832, 283), (812, 858, 842, 890), (844, 688, 874, 720), (895, 725, 925, 757), (832, 504, 863, 534), (663, 642, 695, 672), (633, 610, 665, 640), (672, 701, 702, 732), (736, 738, 766, 770), (809, 823, 839, 855), (722, 520, 752, 552), (800, 885, 830, 916), (901, 856, 931, 888), (817, 750, 847, 782), (821, 842, 851, 874), (635, 676, 667, 706), (791, 586, 823, 616), (653, 851, 683, 883), (740, 571, 770, 603), (819, 863, 851, 893), (816, 911, 847, 941), (734, 520, 764, 552), (759, 481, 789, 513), (755, 911, 786, 943), (669, 793, 701, 823), (885, 835, 915, 867), (678, 593, 709, 623), (849, 1014, 879, 1046), (671, 1054, 701, 1086), (936, 970, 966, 1001), (844, 1005, 876, 1035), (835, 1300, 865, 1332), (856, 985, 888, 1016), (752, 1139, 784, 1169), (803, 1067, 835, 1097), (862, 959, 892, 991), (669, 1037, 699, 1069), (895, 1212, 927, 1242), (876, 1148, 908, 1178), (915, 1460, 947, 1490), (846, 1753, 878, 1783), (832, 1831, 862, 1863), (888, 1638, 920, 1668), (863, 1739, 895, 1769), (791, 1668, 821, 1700), (904, 1750, 934, 1782), (876, 1534, 906, 1566), (784, 1552, 814, 1583), (862, 1598, 893, 1628), (897, 1635, 929, 1665), (856, 1555, 888, 1585), (934, 1456, 964, 1488), (844, 1902, 876, 1932), (924, 1454, 954, 1486), (918, 1468, 948, 1500), (916, 1902, 948, 1932), (801, 1874, 832, 1905), (878, 1522, 908, 1553), (943, 1610, 973, 1642), (869, 1575, 901, 1605), (886, 1649, 918, 1679), (1108, 257, 1139, 287), (1320, 175, 1350, 207), (1375, 78, 1405, 110), (968, 127, 998, 159), (1086, 9, 1118, 39), (1185, 157, 1217, 188), (1079, 170, 1109, 202), (971, 203, 1003, 234), (968, 67, 1000, 97), (1058, 701, 1088, 732), (1120, 839, 1152, 869), (1016, 648, 1047, 678), (1168, 885, 1200, 915), (1099, 920, 1129, 952), (971, 495, 1001, 527), (1033, 943, 1065, 973), (1398, 1178, 1430, 1208), (1380, 1177, 1412, 1207), (1408, 1180, 1438, 1212), (996, 1194, 1028, 1224), (1421, 1203, 1453, 1233), (1086, 1205, 1116, 1237), (1359, 1033, 1389, 1065), (994, 1350, 1024, 1382), (1076, 1120, 1108, 1150), (1162, 1422, 1194, 1453), (1028, 1776, 1058, 1808), (1069, 1720, 1099, 1752), (1037, 1769, 1067, 1801), (1021, 1898, 1051, 1930), (1010, 1817, 1042, 1847), (1162, 1748, 1192, 1780), (1108, 1557, 1138, 1589), (1196, 1589, 1228, 1619), (991, 1752, 1021, 1783), (1127, 1769, 1159, 1799), (1134, 1716, 1164, 1748), (1162, 1872, 1194, 1902), (1083, 1783, 1115, 1813), (1118, 1752, 1148, 1783), (1251, 1651, 1281, 1683), (1237, 1801, 1267, 1833), (1008, 1698, 1039, 1730), (1007, 1458, 1039, 1488), (984, 1764, 1016, 1794), (1325, 1755, 1355, 1787), (1026, 1895, 1058, 1925), (1177, 1651, 1207, 1683), (1217, 1714, 1247, 1746), (1205, 1583, 1235, 1615), (1063, 1810, 1093, 1842), (1200, 1605, 1231, 1635), (1849, 340, 1881, 370), (1759, 257, 1789, 288), (1865, 357, 1895, 389), (1842, 235, 1874, 265), (1737, 297, 1767, 329), (1831, 157, 1863, 188), (1723, 310, 1755, 340), (1675, 281, 1706, 313), (1888, 209, 1918, 241), (1737, 249, 1767, 281), (1808, 311, 1838, 343), (1762, 297, 1794, 327), (1675, 326, 1707, 356), (1684, 299, 1716, 329), (1868, 366, 1898, 398), (1706, 150, 1737, 180), (1822, 228, 1854, 258), (1773, 352, 1805, 382), (1746, 274, 1776, 306), (1679, 290, 1711, 320), (1674, 299, 1706, 329), (1697, 260, 1729, 290), (1716, 334, 1748, 364), (1755, 276, 1785, 308), (1884, 235, 1914, 267), (1697, 140, 1727, 172), (1725, 299, 1757, 329), (1651, 281, 1683, 311), (1746, 134, 1776, 166), (1773, 867, 1805, 897), (1730, 865, 1760, 897), (1865, 899, 1897, 929), (1856, 985, 1888, 1016), (1589, 1157, 1619, 1189), (1626, 1419, 1658, 1449), (1842, 1116, 1872, 1148), (1647, 1145, 1679, 1175), (1810, 1403, 1842, 1433), (1819, 1086, 1849, 1118), (1571, 1116, 1603, 1146), (1668, 1120, 1698, 1152), (1576, 1171, 1608, 1201), (1808, 1118, 1840, 1148), (1799, 1104, 1829, 1136), (1755, 1081, 1787, 1111), (1539, 1212, 1571, 1242), (1562, 1108, 1592, 1139), (1845, 987, 1875, 1019), (1752, 1019, 1783, 1049), (1530, 1145, 1562, 1175), (1852, 970, 1882, 1001), (1755, 1095, 1787, 1125), (1592, 1008, 1622, 1040), (1723, 1127, 1755, 1157), (1598, 1090, 1628, 1122), (1736, 993, 1767, 1023), (1560, 1076, 1591, 1108), (1879, 1405, 1909, 1437), (1529, 1129, 1559, 1161), (1776, 1097, 1806, 1129), (1481, 1118, 1511, 1150), (1559, 1157, 1589, 1189), (1695, 1031, 1725, 1063), (1642, 1125, 1674, 1155), (1789, 1132, 1819, 1164), (1762, 1169, 1794, 1200), (1440, 1097, 1472, 1127), (1601, 1152, 1631, 1184), (1877, 962, 1909, 993), (1863, 1116, 1895, 1146), (1844, 1132, 1874, 1164), (1649, 1134, 1679, 1166), (1585, 1093, 1617, 1123), (1631, 1104, 1661, 1136), (1674, 1083, 1706, 1113), (1813, 985, 1845, 1016), (1583, 1164, 1614, 1196), (1559, 1131, 1589, 1162), (1608, 1065, 1640, 1095), (1552, 1099, 1582, 1131), (1695, 1148, 1727, 1178), (1555, 1171, 1585, 1203), (1727, 1014, 1757, 1046), (1833, 1122, 1865, 1152), (1865, 1410, 1897, 1440), (1617, 1058, 1647, 1090), (1578, 1111, 1610, 1141), (1504, 1136, 1534, 1168), (1468, 1141, 1500, 1171), (1502, 1125, 1534, 1155), (1472, 1171, 1502, 1203), (1808, 1108, 1838, 1139), (1877, 1115, 1907, 1146), (1732, 1162, 1762, 1194), (1769, 1067, 1801, 1097), (1553, 1182, 1583, 1214), (1621, 1138, 1651, 1169), (1764, 1085, 1796, 1115), (1787, 1069, 1819, 1099), (1730, 1026, 1760, 1058), (1783, 1046, 1813, 1077), (1766, 1099, 1798, 1129), (1727, 993, 1757, 1024), (1766, 1120, 1796, 1152), (1897, 1090, 1928, 1120), (1704, 1108, 1734, 1139), (1651, 1090, 1683, 1120), (1697, 1085, 1727, 1116), (1543, 1131, 1573, 1162), (1783, 1109, 1815, 1139), (1493, 1116, 1525, 1146), (1748, 1422, 1780, 1453), (1897, 1422, 1928, 1453), (1704, 1152, 1734, 1184), (1836, 1056, 1867, 1088), (1679, 1072, 1711, 1102), (1633, 1141, 1663, 1173), (1755, 1000, 1787, 1030), (1819, 1100, 1851, 1131), (1568, 1161, 1599, 1191), (1684, 1026, 1714, 1058), (1539, 1099, 1569, 1131), (1638, 1417, 1670, 1447), (1711, 1173, 1741, 1205), (1610, 1088, 1642, 1118), (1571, 1442, 1603, 1472), (1536, 1461, 1566, 1493), (1688, 1468, 1718, 1500), (1813, 1444, 1845, 1474), (1582, 1440, 1614, 1470), (1767, 1437, 1798, 1468), (1727, 1468, 1759, 1499), (1592, 1449, 1624, 1479), (1619, 1442, 1651, 1472), (1516, 1537, 1548, 1568), (1760, 1468, 1790, 1500), (1697, 1447, 1727, 1479), (1822, 1470, 1852, 1502), (1520, 1486, 1550, 1518), (1794, 1440, 1826, 1470), (1771, 1454, 1801, 1486), (1576, 1467, 1608, 1497), (1619, 1474, 1651, 1504), (1681, 1509, 1713, 1539), (1592, 1502, 1622, 1534), (1546, 1486, 1578, 1516), (1790, 1447, 1821, 1479), (1817, 1461, 1849, 1491), (1732, 1461, 1762, 1493), (1631, 1442, 1663, 1472), (1704, 1442, 1734, 1474), (1803, 1463, 1835, 1493), (1688, 1491, 1718, 1523), (1568, 1491, 1598, 1523), (1592, 1472, 1624, 1502), (1626, 1465, 1656, 1497), (1603, 1454, 1633, 1486), (1674, 1463, 1706, 1493), (1543, 1511, 1575, 1541), (1647, 1514, 1679, 1545), (1821, 159, 1854, 188), (1566, 1192, 1594, 1226), (598, 285, 628, 315), (573, 55, 603, 85), (938, 294, 968, 324), (533, 62, 563, 92), (683, 382, 713, 412), (672, 32, 702, 62), (582, 32, 612, 62), (731, 154, 761, 184), (750, 253, 780, 283), (727, 188, 757, 218), (658, 387, 688, 418), (800, 375, 830, 405), (796, 462, 826, 492), (692, 163, 722, 193), (832, 412, 862, 442), (858, 41, 888, 71), (936, 234, 966, 264), (690, 50, 720, 80), (568, 35, 598, 65), (699, 554, 729, 584), (851, 667, 881, 697), (847, 637, 878, 667), (879, 901, 909, 931), (681, 602, 711, 632), (681, 794, 711, 824), (649, 925, 679, 955), (895, 817, 925, 847), (784, 543, 814, 573), (895, 985, 925, 1016), (770, 1359, 800, 1389), (853, 1253, 883, 1283), (920, 1161, 950, 1191), (863, 1152, 893, 1182), (656, 1026, 686, 1056), (764, 1440, 794, 1470), (939, 1562, 970, 1592), (895, 1713, 925, 1743), (793, 1497, 823, 1527), (826, 1548, 856, 1578), (913, 1851, 943, 1881), (939, 1541, 970, 1571), (1074, 163, 1104, 193), (1387, 80, 1417, 110), (1141, 99, 1171, 129), (1212, 257, 1242, 287), (1076, 101, 1106, 131), (1039, 32, 1069, 62), (977, 1125, 1007, 1155), (1046, 1392, 1076, 1422), (1090, 975, 1120, 1005), (996, 968, 1026, 998), (1422, 1180, 1453, 1210), (980, 1844, 1010, 1874), (980, 1583, 1010, 1614), (1077, 1725, 1108, 1755), (1210, 1608, 1240, 1638), (1127, 1624, 1157, 1654), (1077, 1831, 1108, 1861), (982, 1900, 1012, 1930), (975, 1522, 1005, 1552), (980, 1479, 1010, 1509), (1047, 1617, 1077, 1647), (1184, 1621, 1214, 1651), (1122, 1760, 1152, 1790), (1766, 313, 1796, 343), (1753, 317, 1783, 347), (1736, 274, 1766, 304), (1658, 301, 1688, 331), (1852, 239, 1882, 269), (1893, 235, 1923, 265), (1824, 134, 1854, 165), (1794, 280, 1824, 310), (1835, 223, 1865, 253), (1810, 333, 1840, 363), (1810, 345, 1840, 375), (1746, 258, 1776, 288), (1783, 943, 1813, 973), (1729, 978, 1759, 1008), (1624, 1054, 1654, 1085), (1606, 1169, 1637, 1200), (1562, 1180, 1592, 1210), (1686, 1148, 1716, 1178), (1720, 1113, 1750, 1143), (1576, 1095, 1606, 1125), (1638, 1072, 1668, 1102), (1739, 1417, 1769, 1447), (1829, 1417, 1859, 1447), (1633, 1129, 1663, 1159), (1764, 996, 1794, 1026), (1690, 1079, 1720, 1109), (1796, 1398, 1826, 1428), (1530, 1102, 1560, 1132), (1467, 1162, 1497, 1192), (1658, 1044, 1688, 1074), (1698, 1024, 1729, 1054), (1587, 1148, 1617, 1178), (1856, 1028, 1886, 1058), (1757, 1026, 1787, 1056), (1438, 1136, 1468, 1166), (1477, 1148, 1507, 1178), (1769, 1113, 1799, 1143), (1773, 980, 1803, 1010), (1884, 1058, 1914, 1088), (1762, 1138, 1792, 1168), (1812, 1311, 1842, 1341), (1819, 1008, 1849, 1039), (1610, 1118, 1640, 1148), (1769, 989, 1799, 1019), (1514, 1122, 1545, 1152), (1704, 1120, 1734, 1150), (1902, 1341, 1932, 1371), (1479, 1129, 1509, 1159), (1833, 1148, 1863, 1178), (1610, 1102, 1640, 1132), (1612, 1177, 1642, 1207), (1470, 1154, 1500, 1184), (1539, 1086, 1569, 1116), (1851, 980, 1881, 1010), (1737, 1398, 1767, 1428), (1545, 1171, 1575, 1201), (1851, 1042, 1881, 1072), (1729, 1454, 1759, 1484), (1608, 1477, 1638, 1507), (1661, 1460, 1691, 1490), (1631, 1476, 1661, 1506), (1615, 1456, 1645, 1486), (1651, 1444, 1681, 1474), (1805, 1442, 1835, 1472), (1638, 1470, 1668, 1500), (1509, 1532, 1539, 1562), (1684, 1442, 1714, 1472), (1545, 1465, 1575, 1495), (1484, 1522, 1514, 1552), (1520, 1456, 1550, 1486), (1541, 1442, 1571, 1472), (1598, 1106, 1626, 1138), (1624, 1146, 1656, 1175), (1893, 1336, 1925, 1364), (1437, 1161, 1465, 1192), (1798, 1127, 1826, 1159), (810, 446, 839, 476), (757, 166, 786, 196), (577, 44, 607, 73), (679, 610, 709, 639), (778, 1161, 807, 1191), (824, 1178, 855, 1207), (1042, 1713, 1072, 1741), (1566, 1445, 1594, 1476), (747, 517, 775, 545), (1713, 1125, 1741, 1154), (800, 479, 830, 506)
inflammatory: (1674, 1440, 1706, 1472), (1859, 943, 1891, 973), (1698, 1069, 1729, 1099), (1702, 1060, 1732, 1090)
lymphocyte: (1801, 108, 1833, 140), (1782, 932, 1813, 964), (1714, 1139, 1746, 1171), (1529, 1200, 1560, 1231), (1490, 1148, 1522, 1180), (823, 1422, 855, 1453), (1223, 1808, 1253, 1840), (1851, 170, 1881, 202), (1679, 313, 1709, 345), (1548, 1090, 1578, 1122), (1831, 1369, 1861, 1401), (1787, 1012, 1817, 1044), (1566, 1100, 1598, 1131), (1654, 1077, 1686, 1108), (1598, 1164, 1629, 1194), (1780, 1456, 1810, 1488), (913, 1633, 943, 1663), (973, 214, 1003, 244), (1394, 1161, 1424, 1191), (1778, 1083, 1808, 1113), (1522, 1108, 1552, 1138), (1529, 1529, 1559, 1559), (1067, 1534, 1097, 1562), (1904, 218, 1932, 248)
